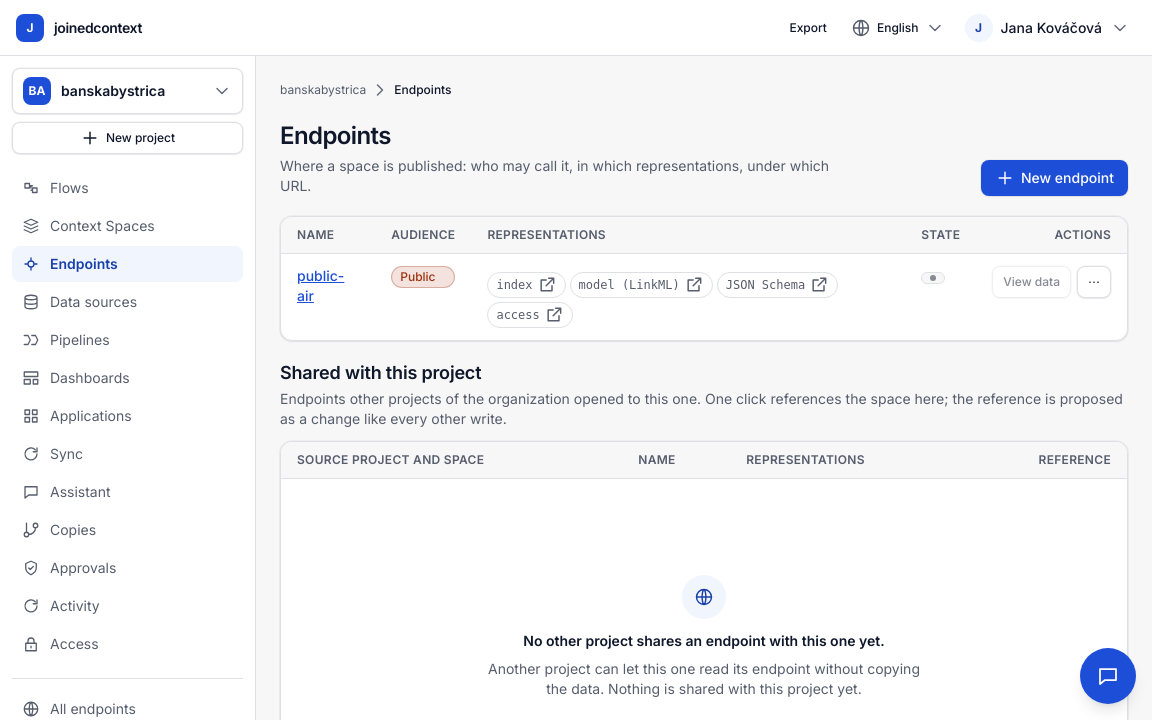
export modal › saves the archive the server answered, then closes
This screenshot has width=1152, height=720.
Click the button "Export" at {"x": 808, "y": 28}, box [779,12,837,44]
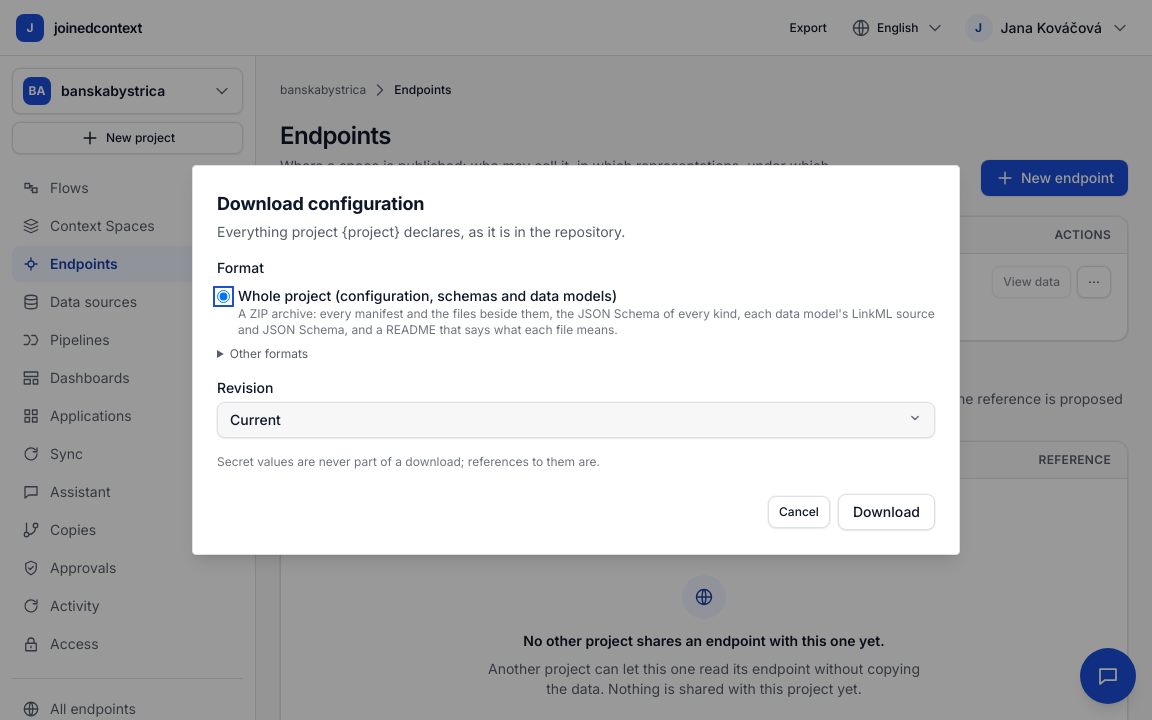
Click the button "Download" at {"x": 886, "y": 512}, box [838,494,935,530]
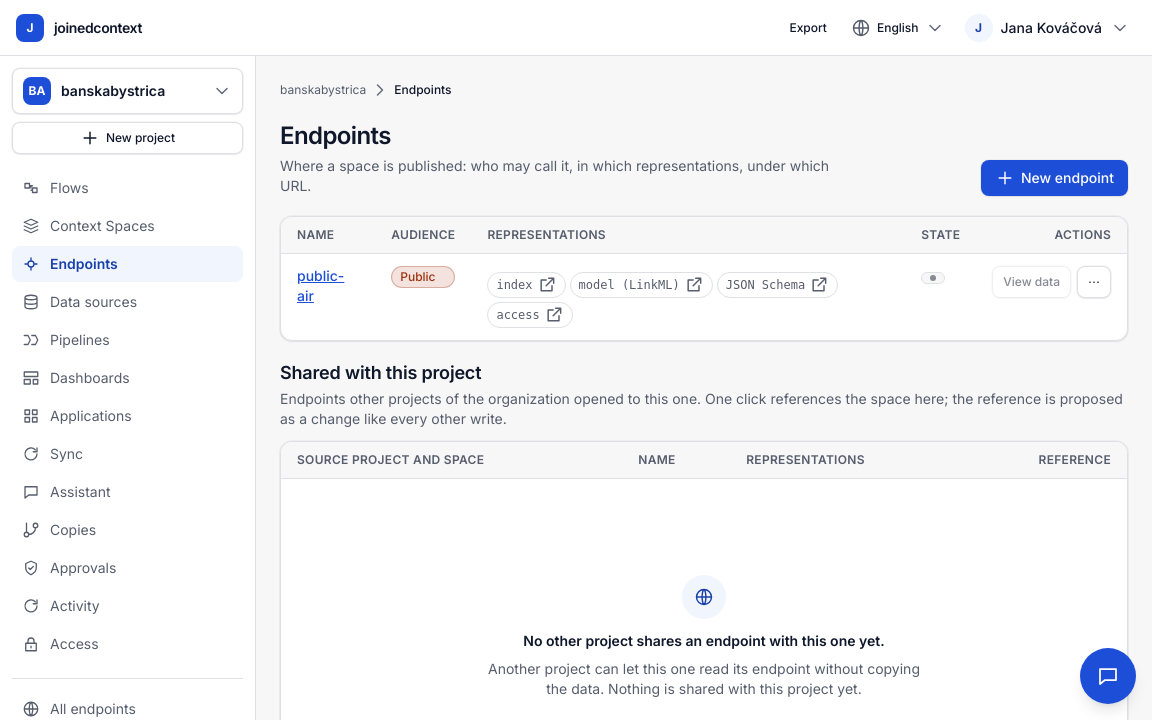
Result: the dialog is gone
